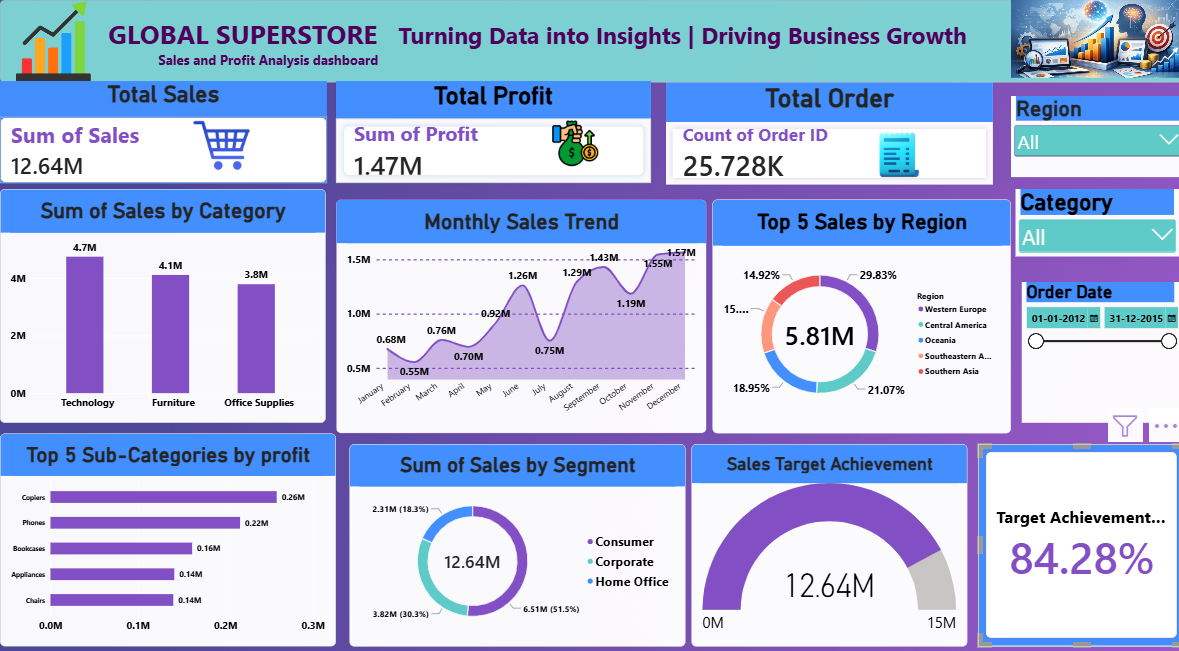

Layout of this report page (visuals, bound fields, positions):
{"tool":"powerbi","page":{"name":"Page 1","canvas":[1920,1080],"ordinal":0},"visuals":[{"type":"textbox","box":[0,0,1918.8,133.6],"z":0},{"type":"image","box":[21.9,2.4,128.7,133.6],"z":1000},{"type":"cardVisual","title":"Total Sales","fields":{"Data":["Sum(Orders.Sales)"]},"box":[0,131.2,529.5,165.2],"z":2000},{"type":"image","box":[264.7,155.4,191.9,150.6],"z":3000},{"type":"cardVisual","title":"Total Profit","fields":{"Data":["Sum(Orders.Profit)"]},"box":[544.1,131.2,510.1,165.2],"z":4000},{"type":"image","box":[876.8,194.3,109.3,75.3],"z":5000},{"type":"cardVisual","title":"Total Order","fields":{"Data":["Count(Orders.Order ID)"]},"box":[1078.4,133.6,529.5,165.2],"z":6000},{"type":"image","box":[1379.6,204,150.6,92.3],"z":7000},{"type":"clusteredColumnChart","fields":{"Category":["Orders.Category"],"Y":["Sum(Orders.Sales)"]},"box":[0,306,527.1,378.9],"z":8000},{"type":"lineChart","title":"Monthly Sales Trend","fields":{"Category":["Orders.Order Date.Variation.Date Hierarchy.Month"],"Y":["Sum(Orders.Sales)"]},"box":[544.1,323,599.9,378.9],"z":9000},{"type":"clusteredBarChart","title":"Top 5 Sub-Categories by profit","fields":{"Category":["Orders.SubCategory"],"Y":["Sum(Orders.Profit)"]},"box":[0,701.9,544.1,344.9],"z":10000},{"type":"donutChart","fields":{"Category":["Orders.Segment"],"Y":["Sum(Orders.Sales)"]},"box":[565.9,718.9,544.1,327.9],"z":11000},{"type":"slicer","fields":{"Values":["Orders.Region"]},"box":[1637,155.4,281.7,131.2],"z":12000},{"type":"slicer","fields":{"Values":["Orders.Category"]},"box":[1644.3,306,264.7,109.3],"z":13000},{"type":"donutChart","title":"Top 5 Sales by Region","fields":{"Category":["Orders.Region"],"Y":["Sum(Orders.Sales)"]},"box":[1153.7,323,483.3,378.9],"z":14000},{"type":"slicer","fields":{"Values":["Orders.Order Date"]},"box":[1654,456.6,255,228.3],"z":15000},{"type":"gauge","title":"Sales Target Achievement ","fields":{"MaxValue":["Orders.max sales"],"MinValue":["Orders.min sales"],"Y":["Sum(Orders.Sales)"]},"box":[1119.7,718.9,446.9,327.9],"z":16000},{"type":"cardVisual","fields":{"Data":["Orders.Target Achievement %"]},"box":[1583.6,718.9,335.2,327.9],"z":17000},{"type":"image","box":[1637,0,281.7,126.3],"z":17001}]}

Visuals, with their boxes in screenshot pixels (x1, y1, x2, y2), scaled from the page's 1920x1080 canvas onto the 1179x651 screenshot:
textbox: locate(0, 0, 1178, 81)
image: locate(13, 1, 92, 82)
"Total Sales" cardVisual: locate(0, 79, 325, 179)
image: locate(163, 94, 280, 184)
"Total Profit" cardVisual: locate(334, 79, 647, 179)
image: locate(538, 117, 606, 163)
"Total Order" cardVisual: locate(662, 81, 987, 180)
image: locate(847, 123, 940, 179)
clusteredColumnChart - Orders.Category x Sum(Orders.Sales): locate(0, 184, 324, 413)
"Monthly Sales Trend" lineChart: locate(334, 195, 702, 423)
"Top 5 Sub-Categories by profit" clusteredBarChart: locate(0, 423, 334, 631)
donutChart - Orders.Segment x Sum(Orders.Sales): locate(347, 433, 682, 631)
slicer - Orders.Region: locate(1005, 94, 1178, 173)
slicer - Orders.Category: locate(1010, 184, 1172, 250)
"Top 5 Sales by Region" donutChart: locate(708, 195, 1005, 423)
slicer - Orders.Order Date: locate(1016, 275, 1172, 413)
"Sales Target Achievement " gauge: locate(688, 433, 962, 631)
cardVisual - Orders.Target Achievement %: locate(972, 433, 1178, 631)
image: locate(1005, 0, 1178, 76)
